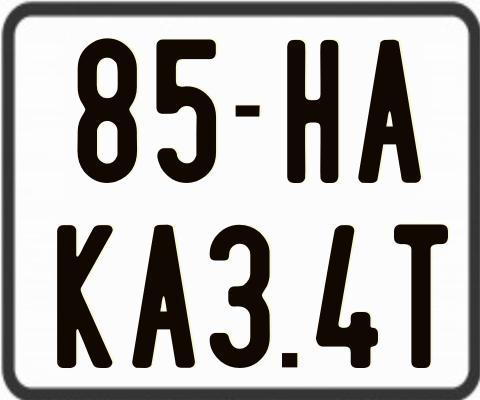3: (208, 224, 270, 372)
4: (316, 223, 378, 372)
5: (154, 36, 216, 186)
8: (77, 35, 143, 186)
A: (129, 223, 198, 367), (356, 38, 419, 187)
H: (286, 38, 339, 182)
K: (57, 222, 113, 367)
T: (391, 224, 446, 372)
